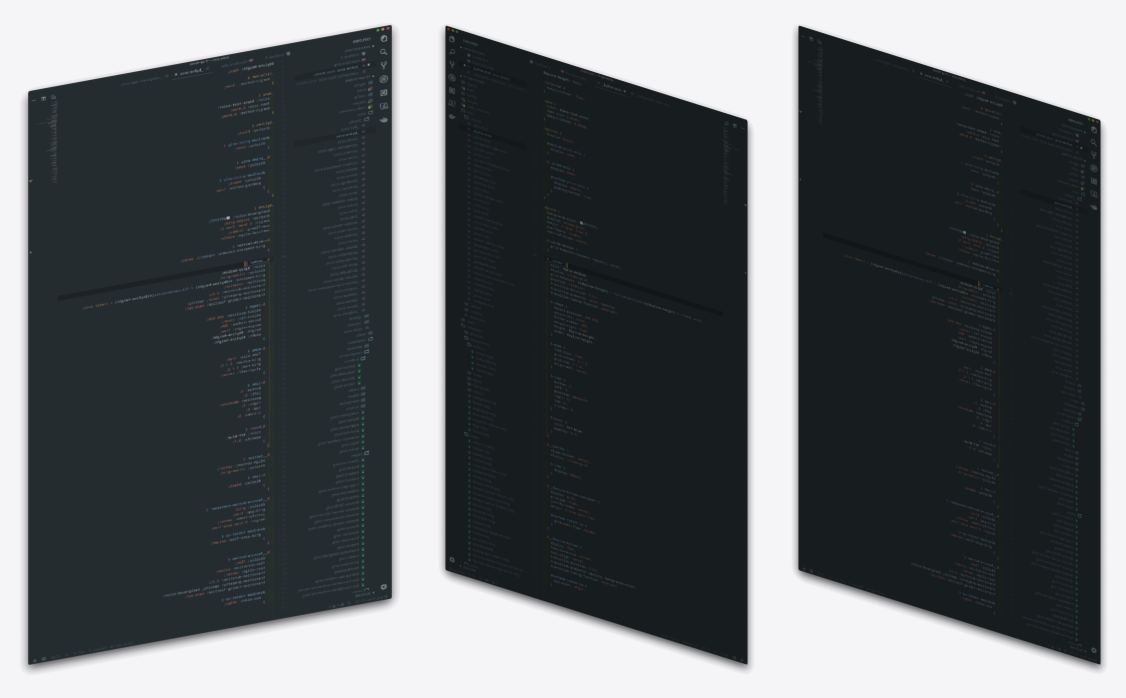
The model's file is veritcalmonitor.glb.
The picture shows the model from 3 angles, left to right: view 1: azimuth 30°, elevation 25°; view 2: azimuth 150°, elevation 25°; view 3: azimuth 330°, elevation 25°; orthographic projection. The views are drawn at different scales.
Parts seen in each view (by area): view 1: verticalMonitrblender; view 2: verticalMonitrblender; view 3: verticalMonitrblender.
Part boxes in pixels (box(x1,y1,x2,y2)): verticalMonitrblender: box(25, 25, 394, 670); verticalMonitrblender: box(443, 25, 749, 669); verticalMonitrblender: box(796, 25, 1102, 669).
Bounding box in the file's own units: 0.4505 × 0.7024 × 0.0519.
1 material, 1 textured.
